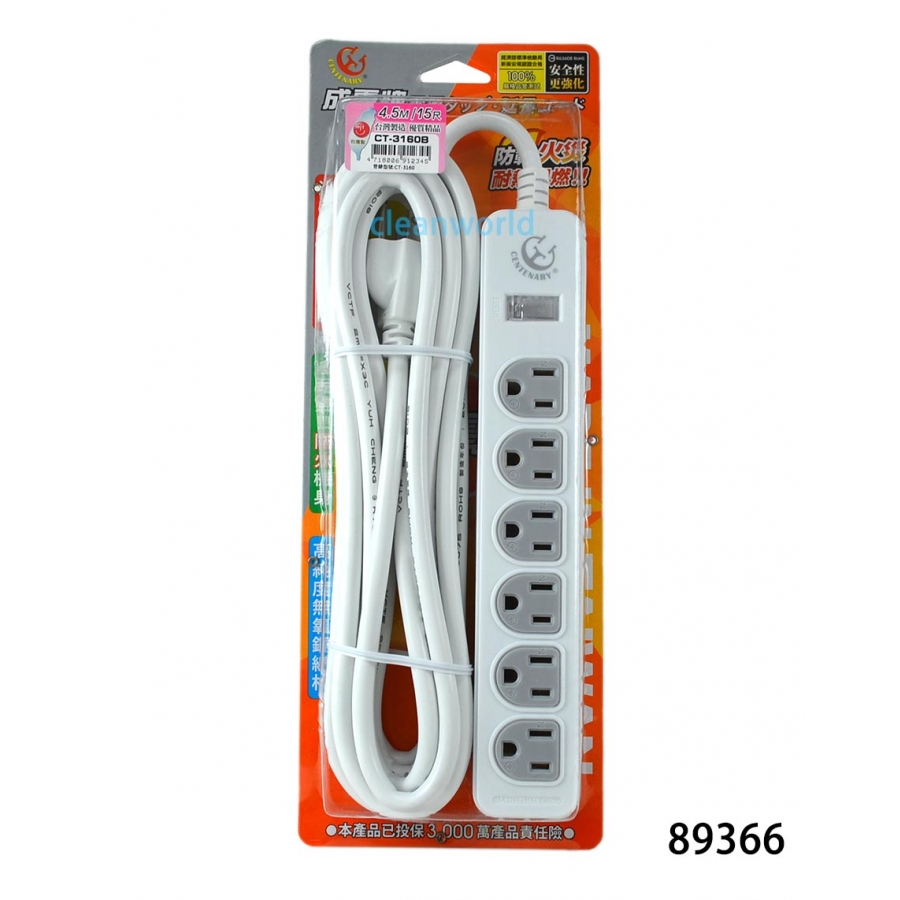socket: (478, 166, 580, 825)
